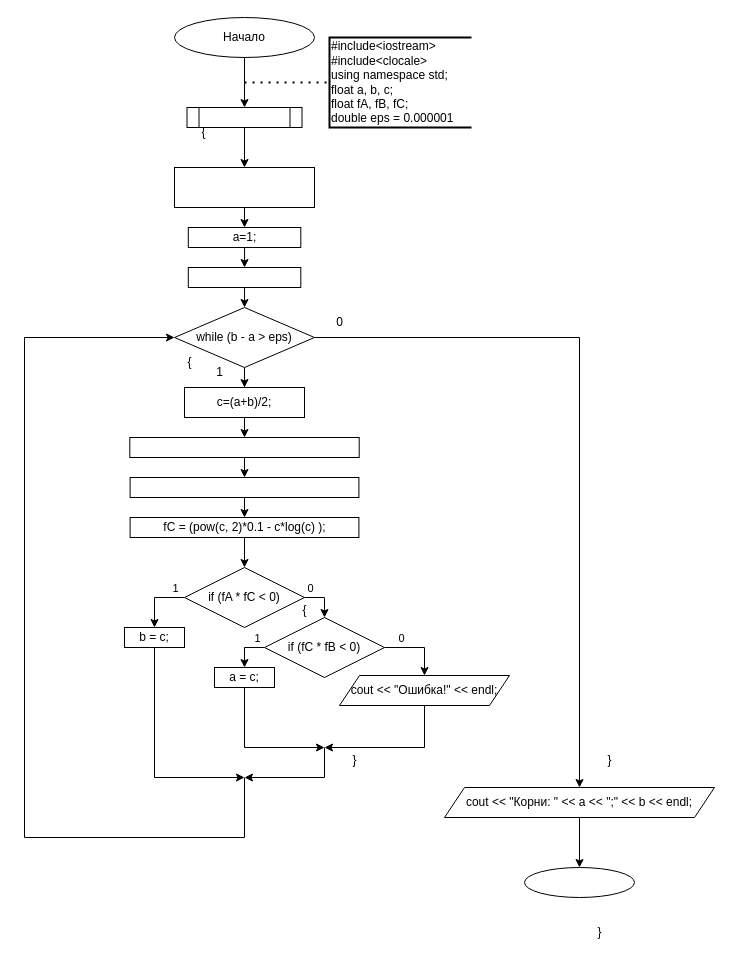
Image size: 732x965. Some labels were removed from this diagram. The shapes that lost their labels are listed below. From the top down, each one's centre as x and y in pixels, then its label:
(x=244, y=117): int main()
(x=244, y=187): setlocale(LC_ALL,"Rus");
(x=244, y=277): b=2;
(x=244, y=447): fA = (pow(a, 2)*0.1 - a*log(a) );
(x=244, y=487): fB = (pow(b, 2)*0.1 - b*log(b) );
(x=579, y=882): return 0;
